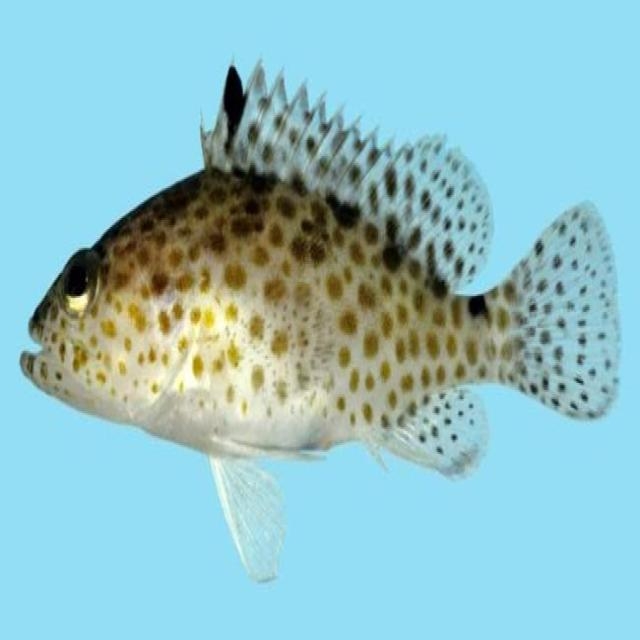ikan: (19, 55, 621, 583)
